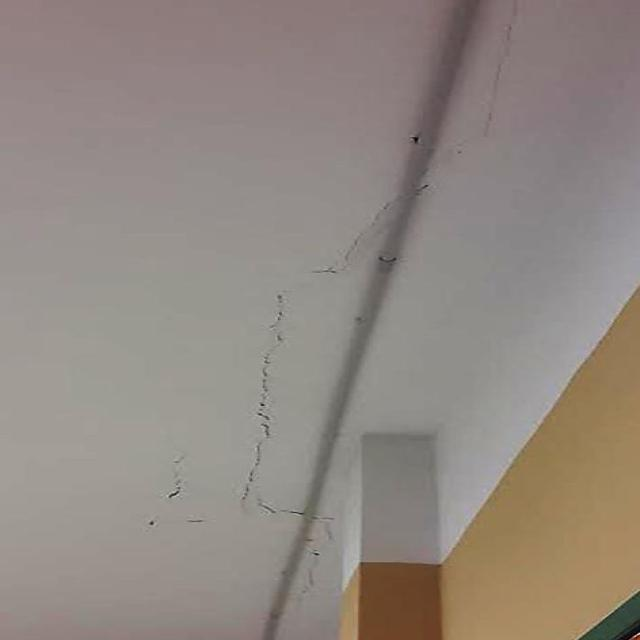crack: (239, 287, 341, 543), (160, 443, 191, 505)
